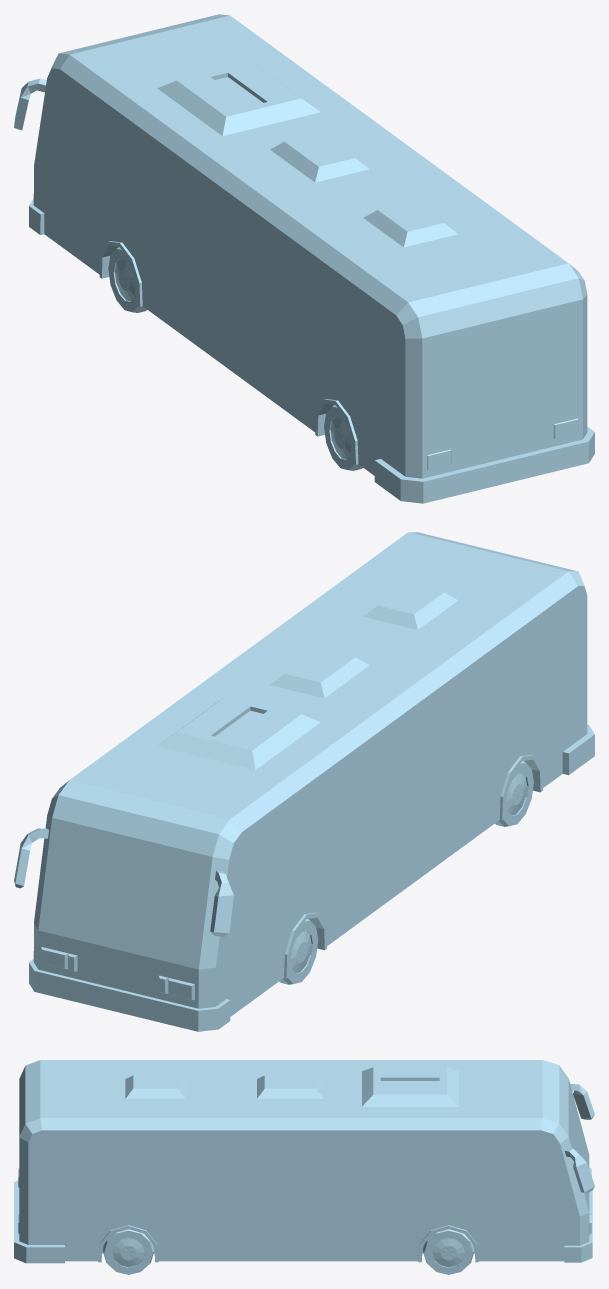
The model's file is citypack-bus.glb.
3 renders of one model, top to bottom at view 1: azimuth 30°, elevation 25°; view 2: azimuth 150°, elevation 25°; view 3: azimuth 270°, elevation 25°, orthographic. The views are drawn at different scales.
Parts seen in each view (by area): view 1: body; view 2: body; view 3: body.
Part boxes in pixels (x1,y1,x2,y2): body: (14, 14, 594, 503); body: (14, 532, 594, 1031); body: (14, 1060, 594, 1274).
Bounding box in the file's own units: 50.06 × 48.81 × 157.
Materials: 1 (1 with a texture image).
